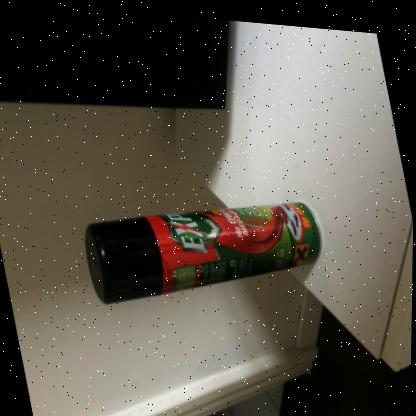Metal: (86, 195, 322, 300)
Plastic: (86, 212, 164, 300)
